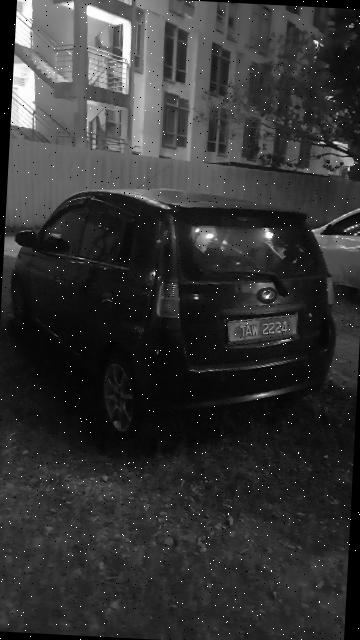License_Plate: (223, 311, 306, 349)
car: (1, 176, 348, 447)
